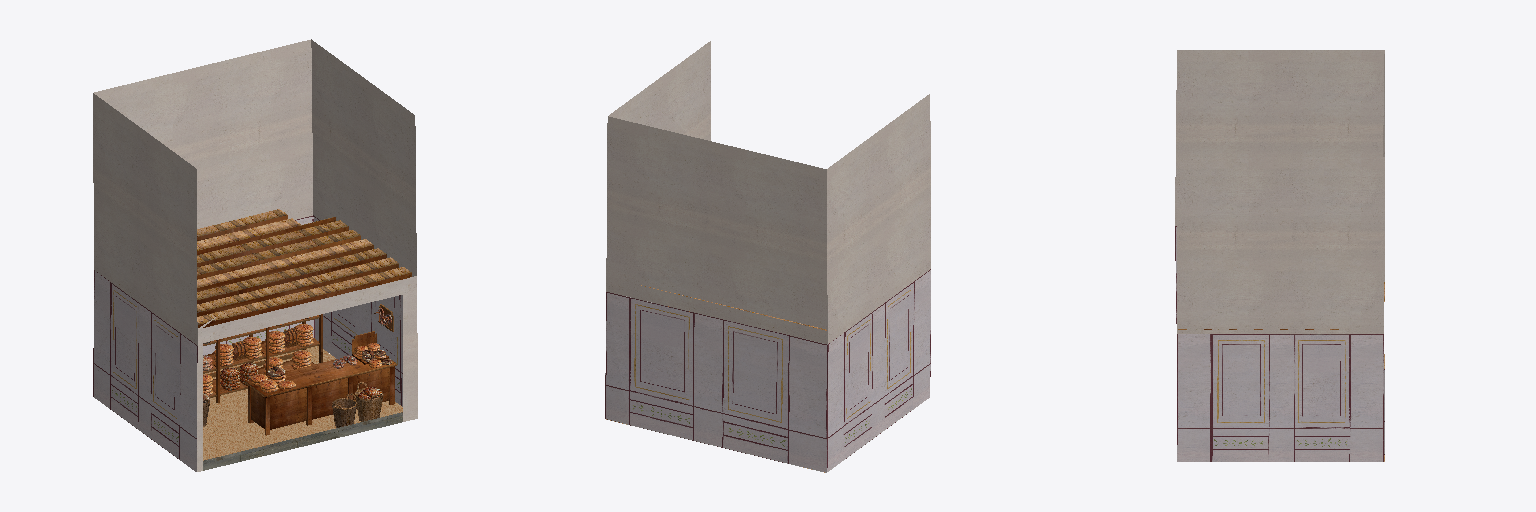
The picture shows the model from 3 angles: view 1: azimuth 30°, elevation 25°; view 2: azimuth 150°, elevation 25°; view 3: azimuth 270°, elevation 25°; orthographic projection.
Parts seen in each view (by area): view 1: Object__0; view 2: Object__0; view 3: Object__0.
Part boxes in pixels (x1,y1,x2,y2): Object__0: (93, 39, 417, 471); Object__0: (605, 41, 930, 472); Object__0: (1175, 50, 1384, 461).
Size of the model in its own units: 13.63 by 17.85 by 11.18.
Materials: 187 (13 with a texture image).